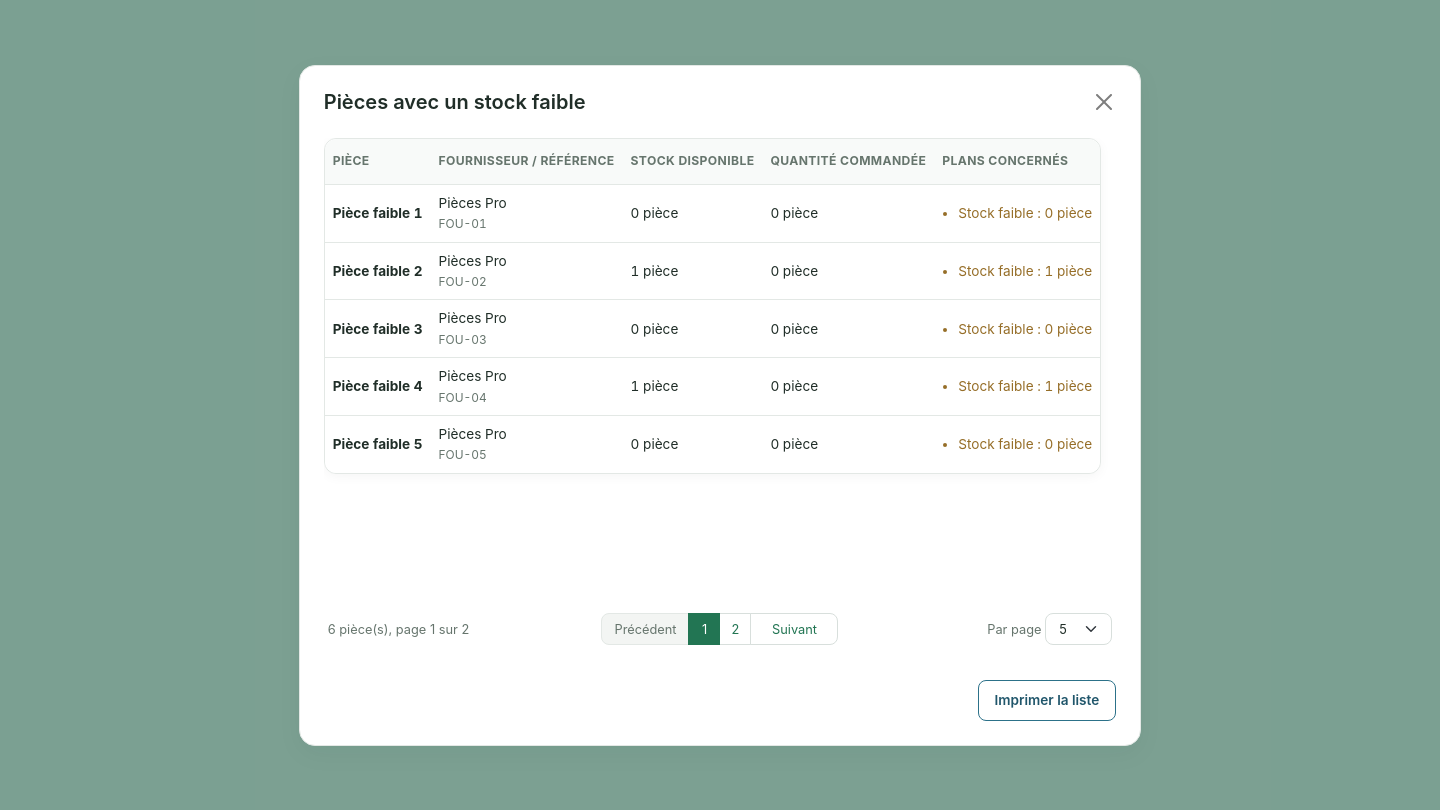
Test: MaintenanceOrderListModal › paginates the dashboard low-stock list with the shared GreenDesk controls
The image size is (1440, 810).
Expected: the text "Pièce faible 1" is shown, [333,203,423,224]
Expected: the text "Pièce faible 6" is not shown
Click the button "Suivant" at (794, 629), box [750,613,838,645]
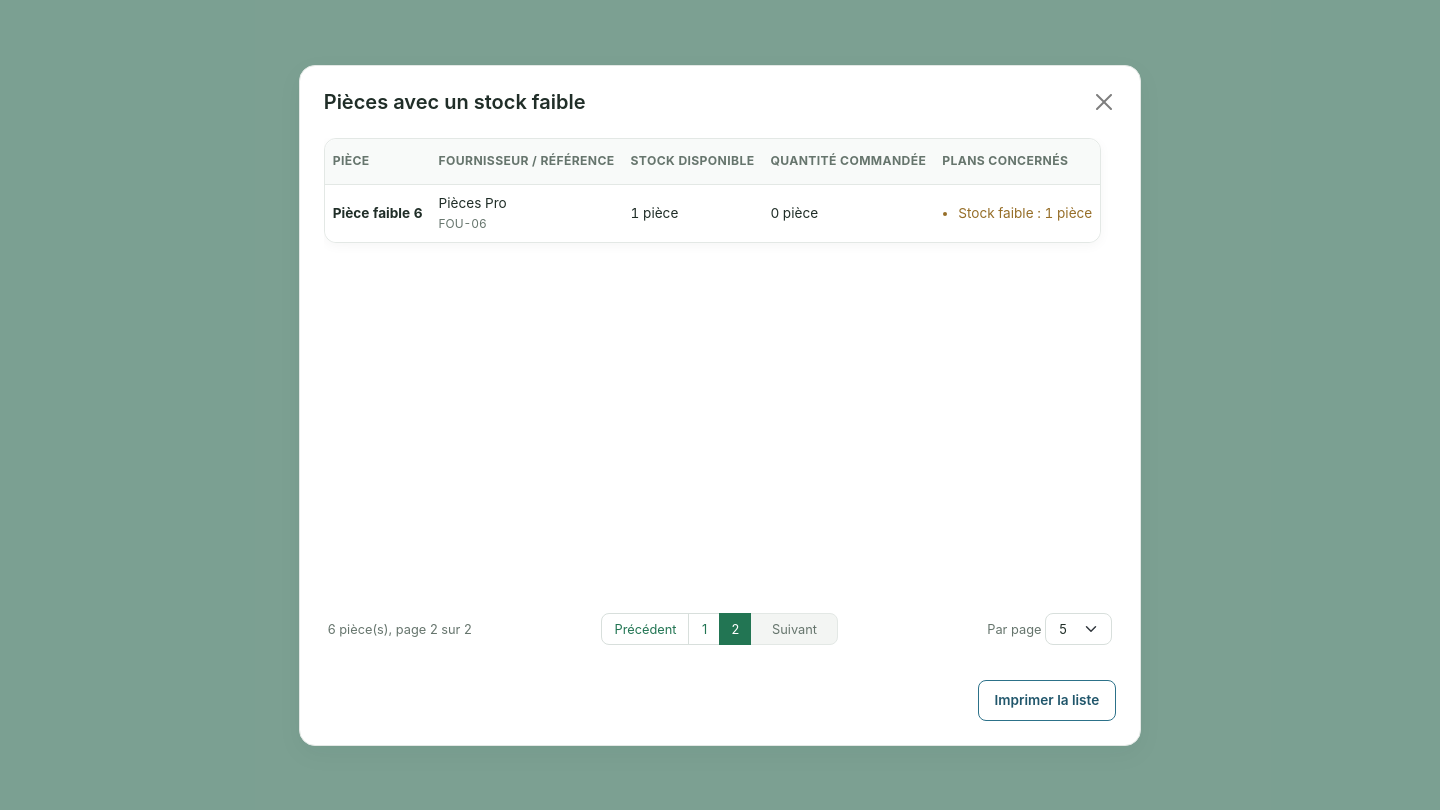
Expected: the text "Pièce faible 6" is shown, [333,203,423,224]
Expected: the text "Pièce faible 1" is gone
Select "10" in the dropdown named "Nombre d’éléments par page" at (1079, 629), box [1046,613,1112,645]
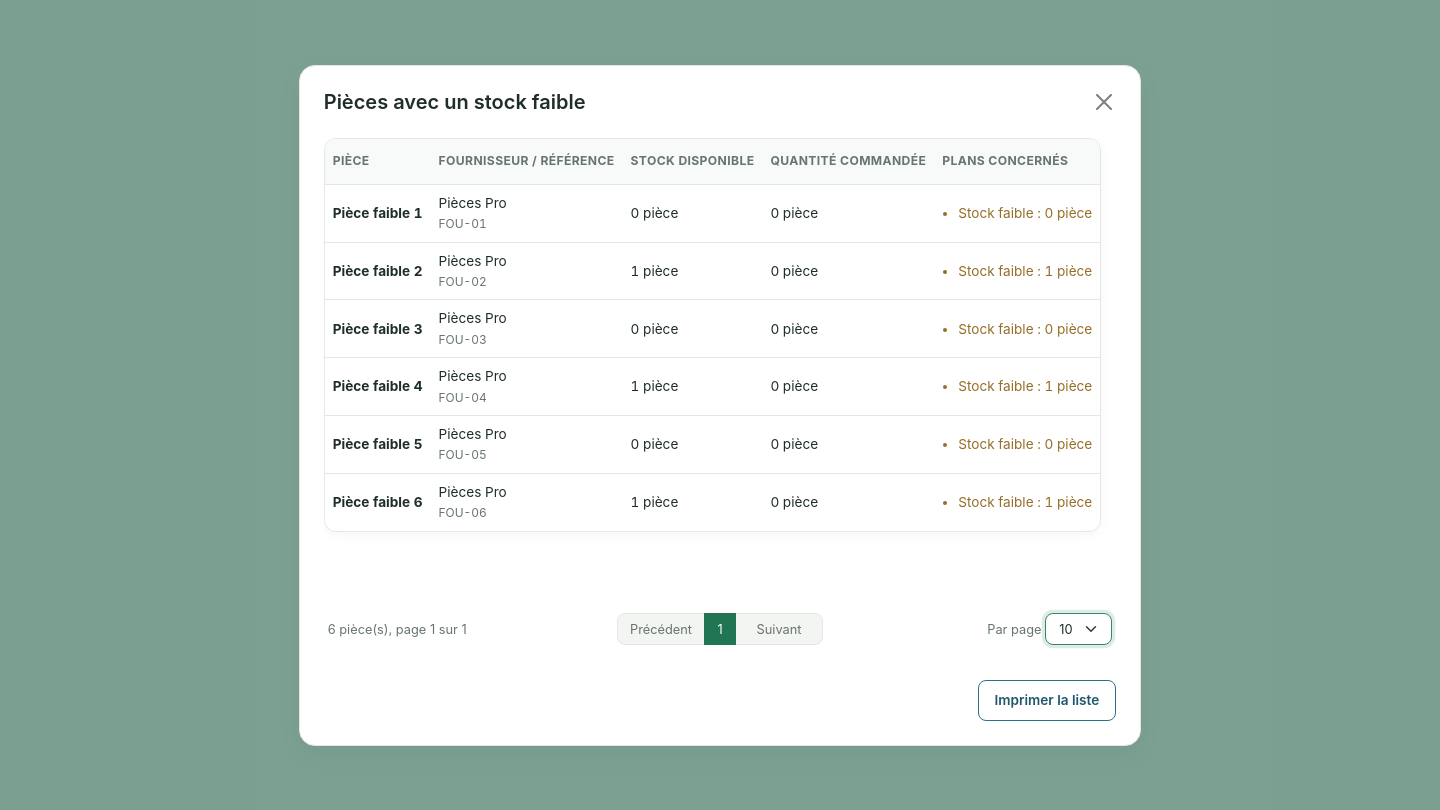
Expected: the text "Pièce faible 6" is shown, [333,492,423,512]
Expected: the text "6 pièce(s), page 1 sur 1" is shown, [328,620,467,639]
Expected: the text "Pièce faible 1" is shown, [333,203,423,224]
